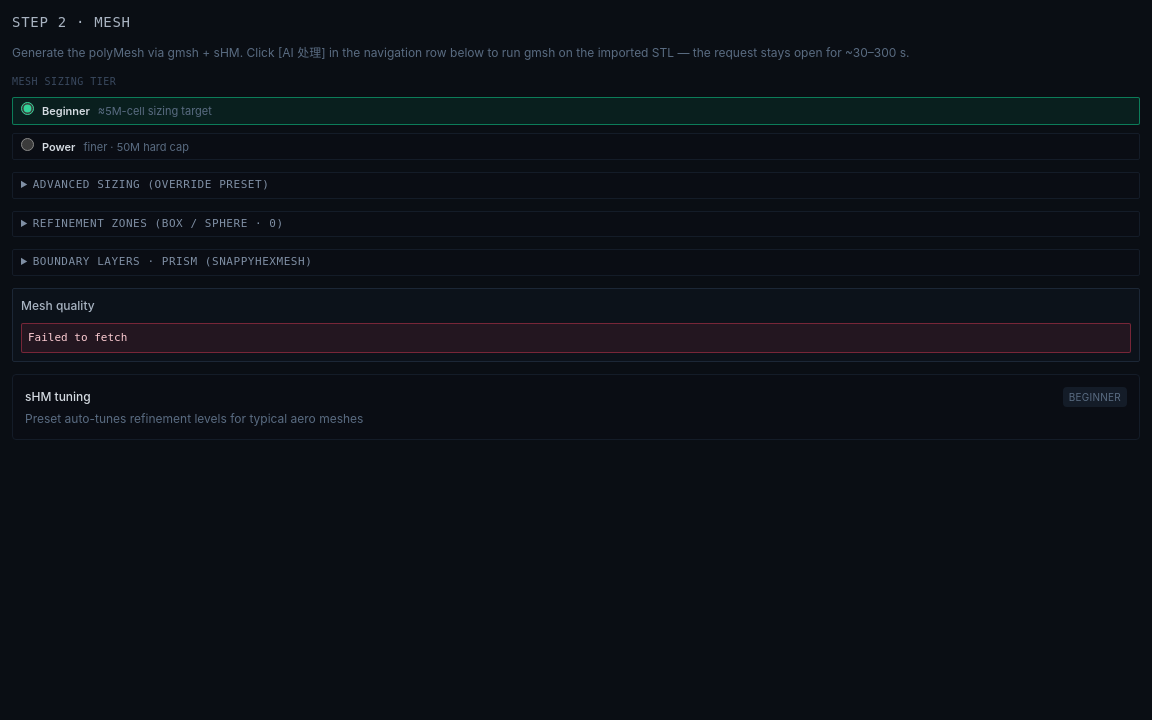
Step2Mesh · wired body › blocks prism apply with inline error while gmsh remesh is in flight
Click the heading "Boundary layers · prism (snappyHexMesh)": (172, 262) 33,255 -> 312,268
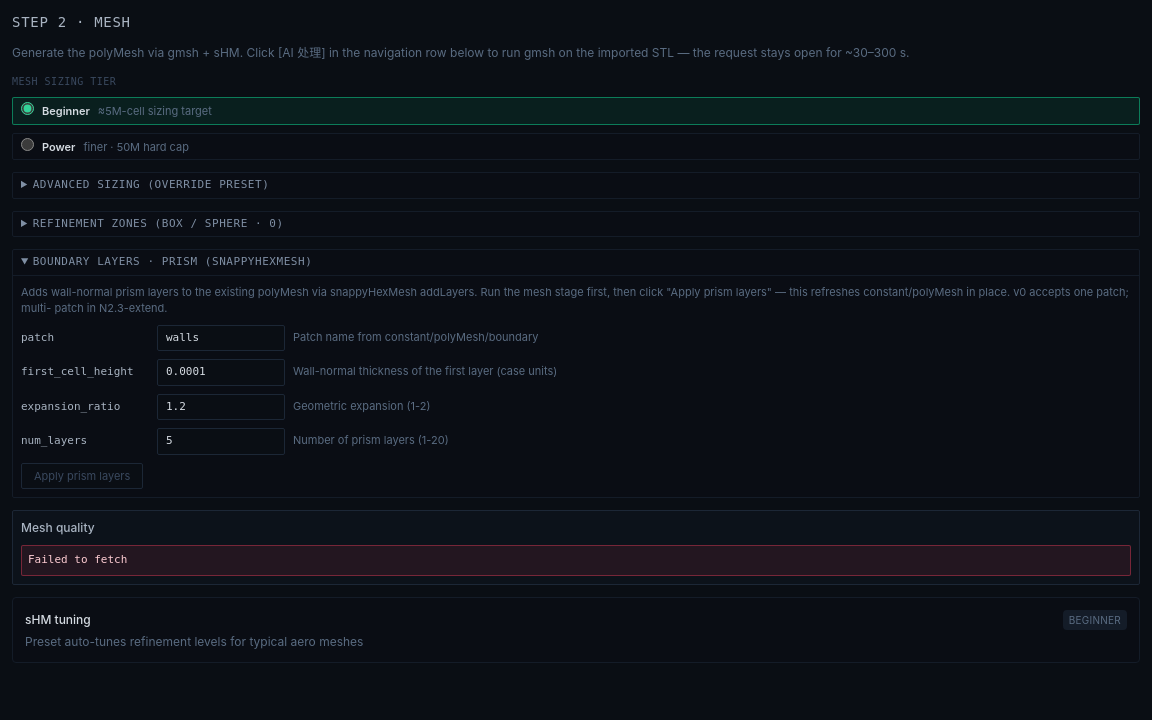
Now the button with test id "step2-mesh-prism-apply" is disabled, box 21,462 -> 143,489
